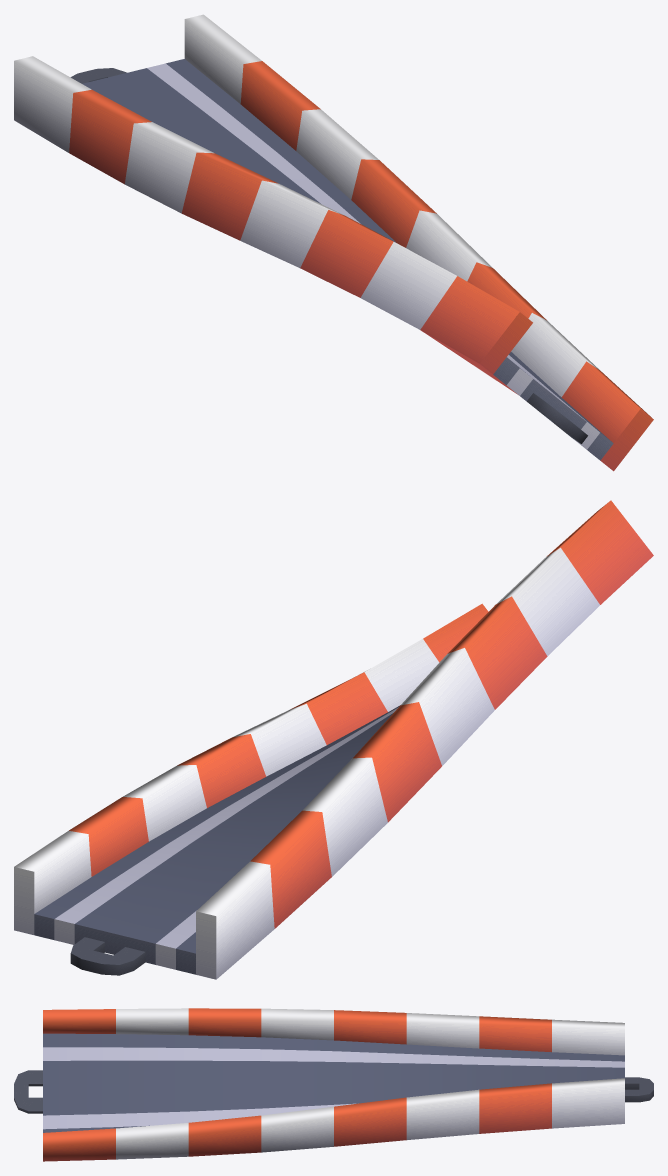
The model's file is track-road-narrow-straight-skew-left.glb.
3 renders of one model, top to bottom at view 1: azimuth 30°, elevation 25°; view 2: azimuth 150°, elevation 25°; view 3: azimuth 270°, elevation 25°, orthographic. The views are drawn at different scales.
Parts seen in each view (by area): view 1: track-road-narrow-straight-skew-left; view 2: track-road-narrow-straight-skew-left; view 3: track-road-narrow-straight-skew-left.
Boxes of the visible parts, box(x1,y1,x2,y2) form: track-road-narrow-straight-skew-left: box(14, 14, 653, 471); track-road-narrow-straight-skew-left: box(14, 500, 653, 979); track-road-narrow-straight-skew-left: box(14, 1008, 653, 1161).
Bounding box in the file's own units: 1.08 × 0.9192 × 4.4.
1 material, 1 textured.
